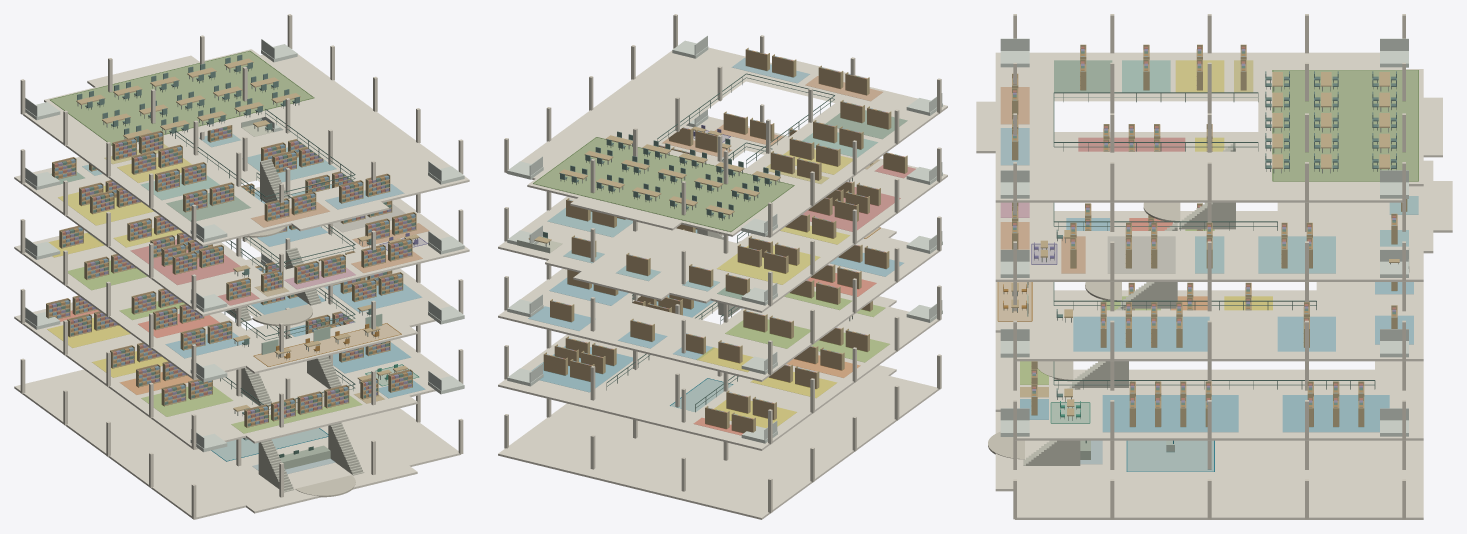
File: 图书馆_五层试点总览.glb
3 views of the same model, side by side, from view 1: azimuth 30°, elevation 25°; view 2: azimuth 150°, elevation 25°; view 3: azimuth 270°, elevation 25° (orthographic). The views are drawn at different scales.
Visible parts, largest first — view 1: guide_outline_floor_slab (×5), guide_function_tint (×22), proposed_candidate_zone (×3), photo_guided_curved_landing (×2), service_counter; view 2: guide_outline_floor_slab (×5), guide_function_tint (×18), proposed_candidate_zone (×2); view 3: guide_outline_floor_slab (×5), guide_function_tint (×18), proposed_candidate_zone (×4), photo_guided_curved_landing (×4), atrium_rail_lower.
Boxes of the visible parts, <box> form: guide_outline_floor_slab (×5): <box>14,49,469,519</box>; guide_function_tint (×22): <box>47,51,421,433</box>; proposed_candidate_zone (×3): <box>51,51,399,460</box>; photo_guided_curved_landing (×2): <box>252,304,355,497</box>; service_counter: <box>280,445,330,469</box>; guide_outline_floor_slab (×5): <box>498,47,947,519</box>; guide_function_tint (×18): <box>528,58,907,427</box>; proposed_candidate_zone (×2): <box>534,138,792,411</box>; guide_outline_floor_slab (×5): <box>976,52,1452,519</box>; guide_function_tint (×18): <box>1000,60,1418,432</box>; proposed_candidate_zone (×4): <box>998,70,1417,471</box>; photo_guided_curved_landing (×4): <box>988,202,1180,459</box>; atrium_rail_lower: <box>1054,384,1374,385</box>.
Size of the model in its own units: 36.4 by 40.52 by 49.
